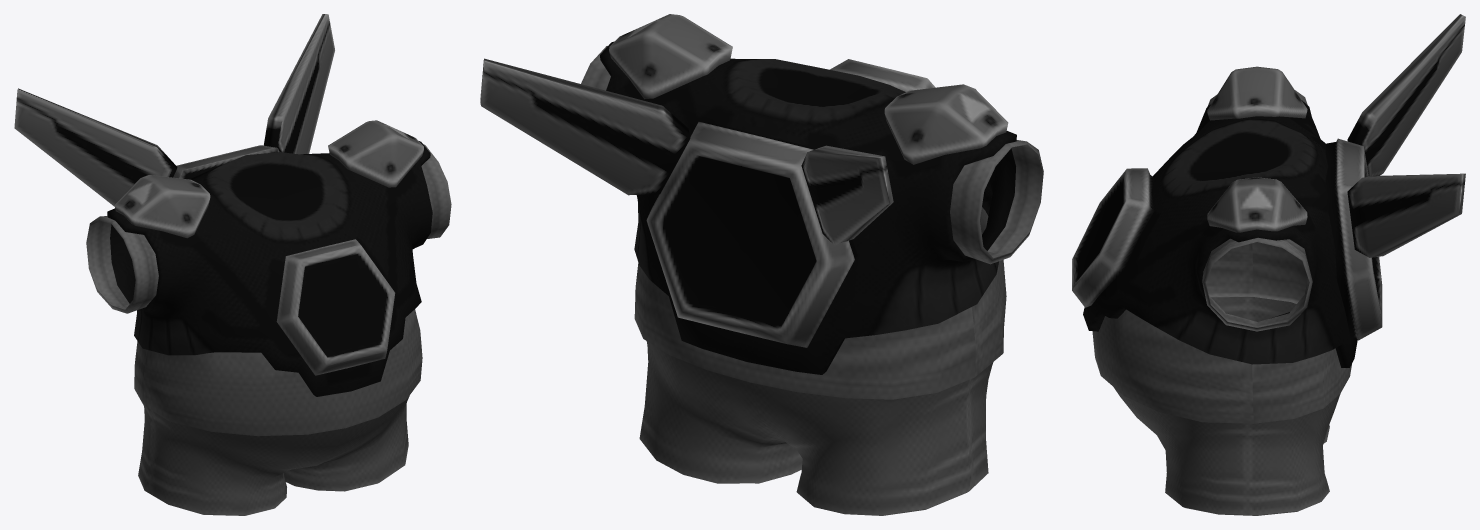
The picture shows the model from 3 angles, left to right: view 1: azimuth 30°, elevation 25°; view 2: azimuth 150°, elevation 25°; view 3: azimuth 270°, elevation 25°; orthographic projection. The views are drawn at different scales.
Parts seen in each view (by area): view 1: model_0_submesh_0, model_0_submesh_1; view 2: model_0_submesh_0, model_0_submesh_1; view 3: model_0_submesh_0, model_0_submesh_1.
Part boxes in pixels (<box>): model_0_submesh_0: <box>14,14,432,396</box>; model_0_submesh_1: <box>86,144,451,515</box>; model_0_submesh_0: <box>480,14,1016,374</box>; model_0_submesh_1: <box>581,46,1043,515</box>; model_0_submesh_0: <box>1072,14,1465,367</box>; model_0_submesh_1: <box>1092,90,1351,515</box>.
Bounding box in the file's own units: 0.4732 × 0.4936 × 0.4763.
